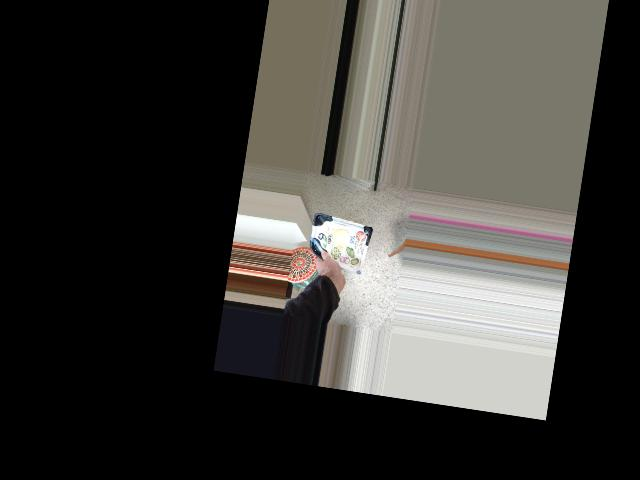cheese: (313, 230, 370, 284)
